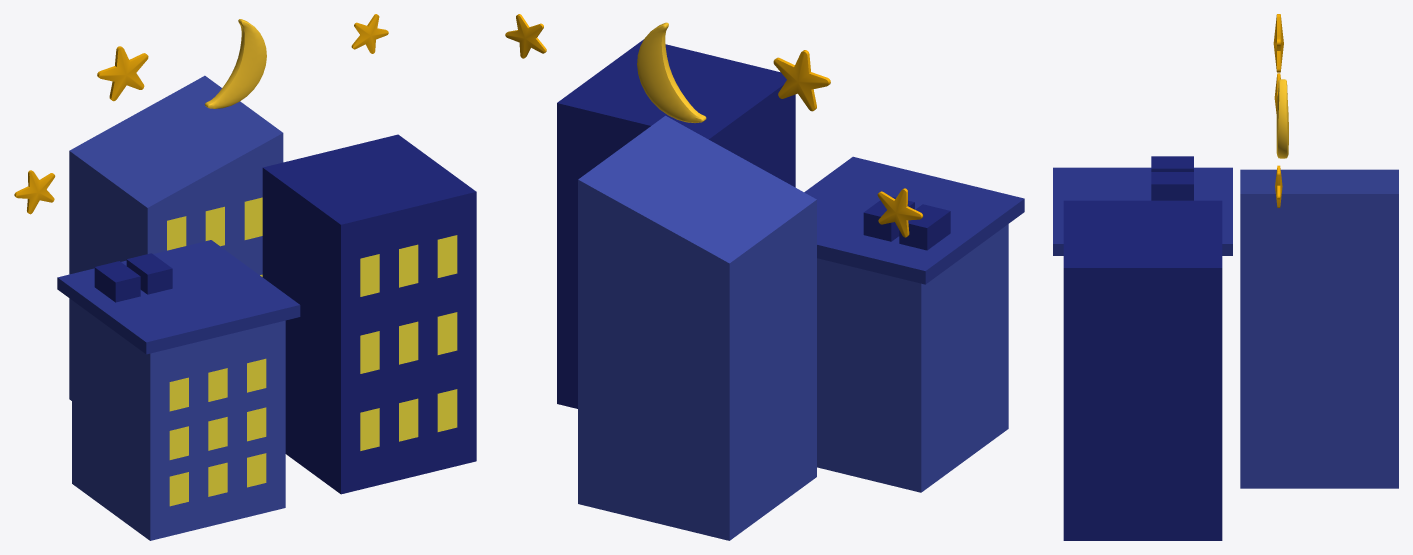
Rendered from night_with_stars.fbx.
3 views of the same model, side by side, from view 1: azimuth 30°, elevation 25°; view 2: azimuth 150°, elevation 25°; view 3: azimuth 270°, elevation 25° (orthographic). The views are drawn at different scales.
Parts seen in each view (by area): view 1: Cube.518; view 2: Cube.518; view 3: Cube.518.
Boxes of the visible parts, x1,y1,x2,y2 form: Cube.518: (14,14,476,540); Cube.518: (505,14,1024,540); Cube.518: (1053,14,1398,540).
Size of the model in its own units: 220 by 225 by 174.
Materials: 1 (1 with a texture image).
